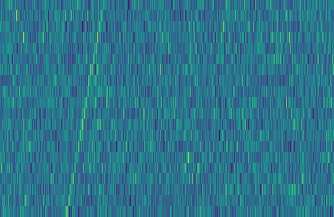signal: (60, 0, 108, 217)
